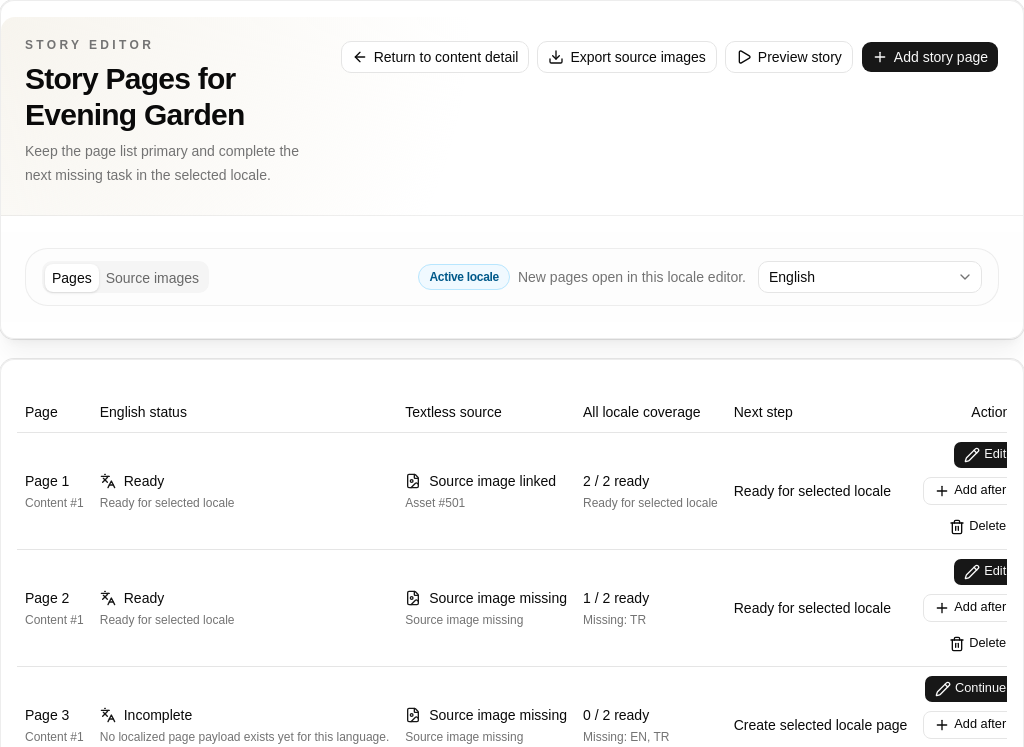
it: StoryPagesRoute › shows previous and next controls in the page editor header
The image size is (1024, 747).
Click the button with aria-label "edit page 2" at (985, 572), box [953, 558, 1017, 586]
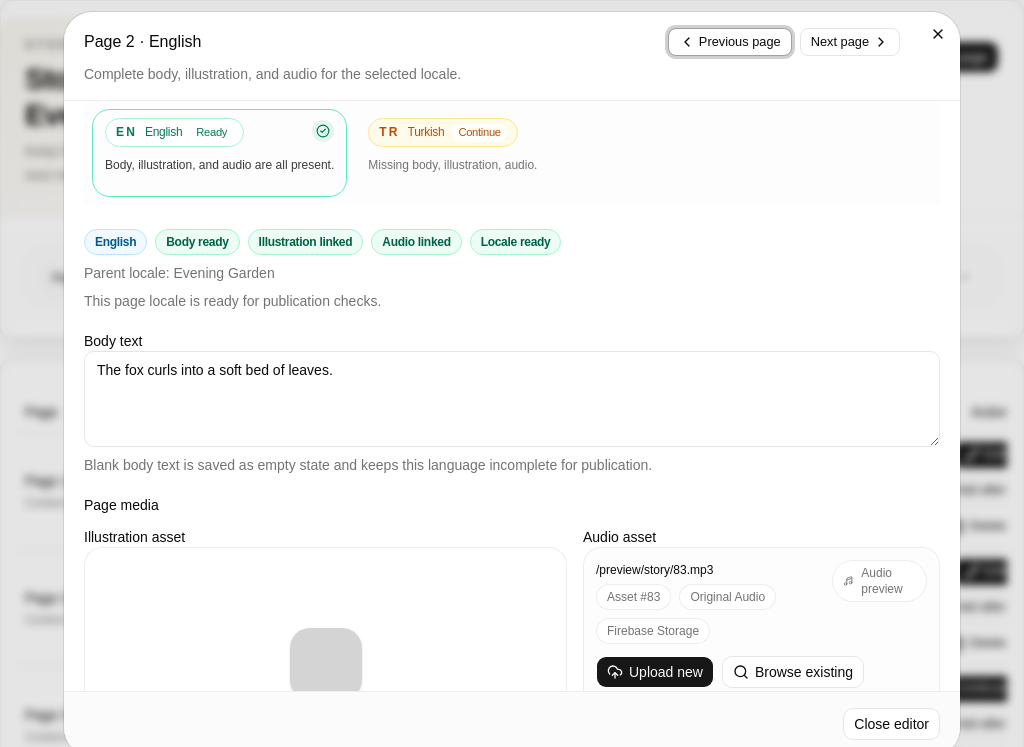
Expected: the heading "Page 2 · English" is shown, [84, 34, 201, 50]
Expected: the button "Previous page" is enabled, [668, 28, 792, 56]
Expected: the button "Next page" is enabled, [800, 28, 900, 56]
